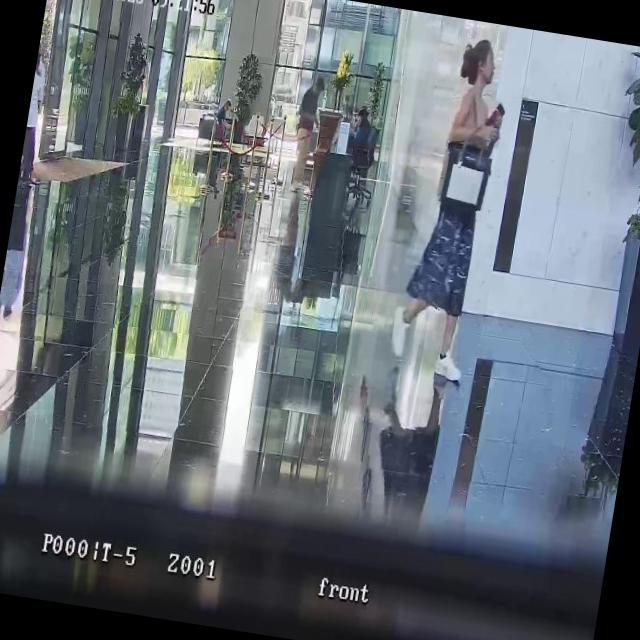person: (389, 31, 516, 388), (18, 39, 54, 182), (286, 74, 326, 192), (346, 108, 376, 164), (212, 98, 236, 150)
